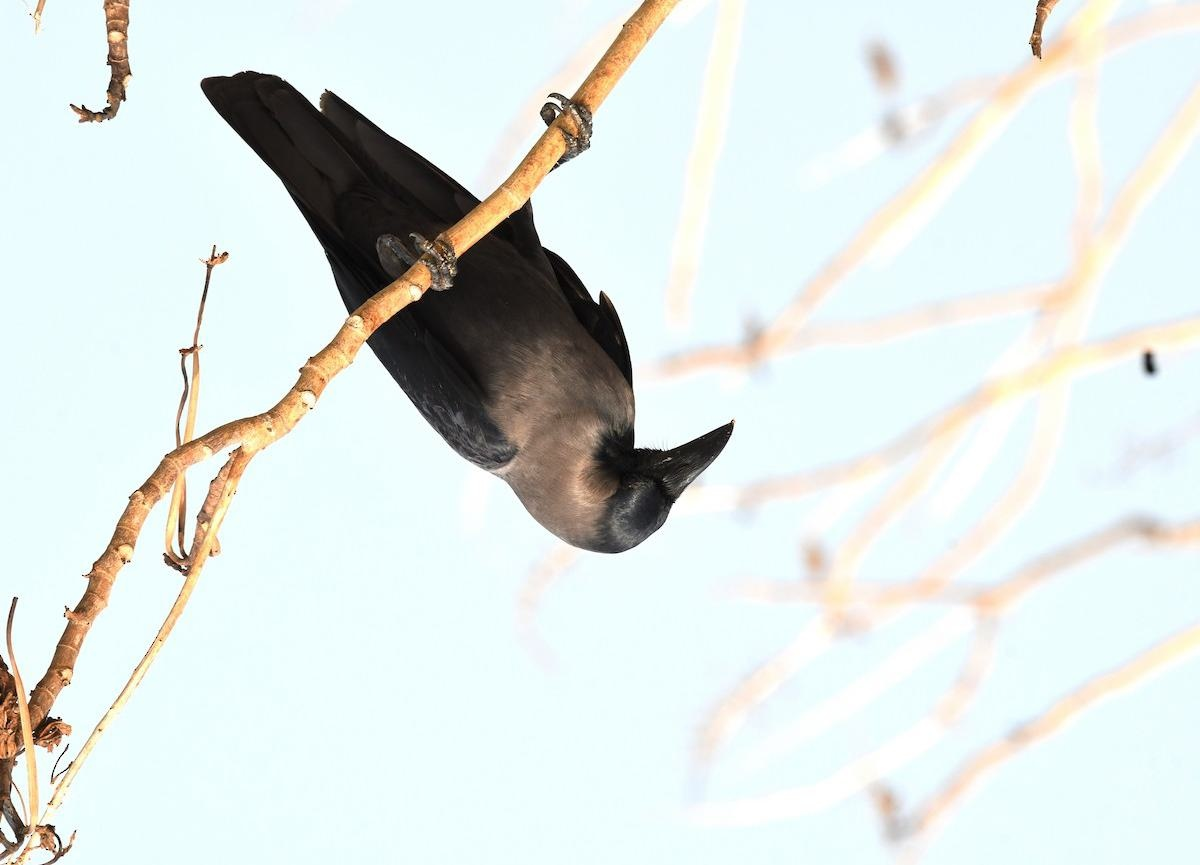crow: (196, 53, 753, 571)
